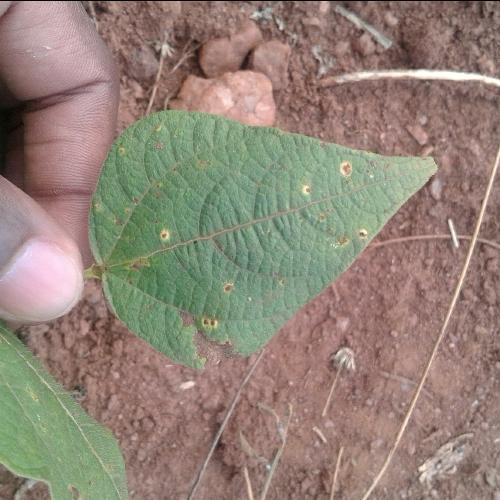mozaik: (86, 102, 440, 368)
